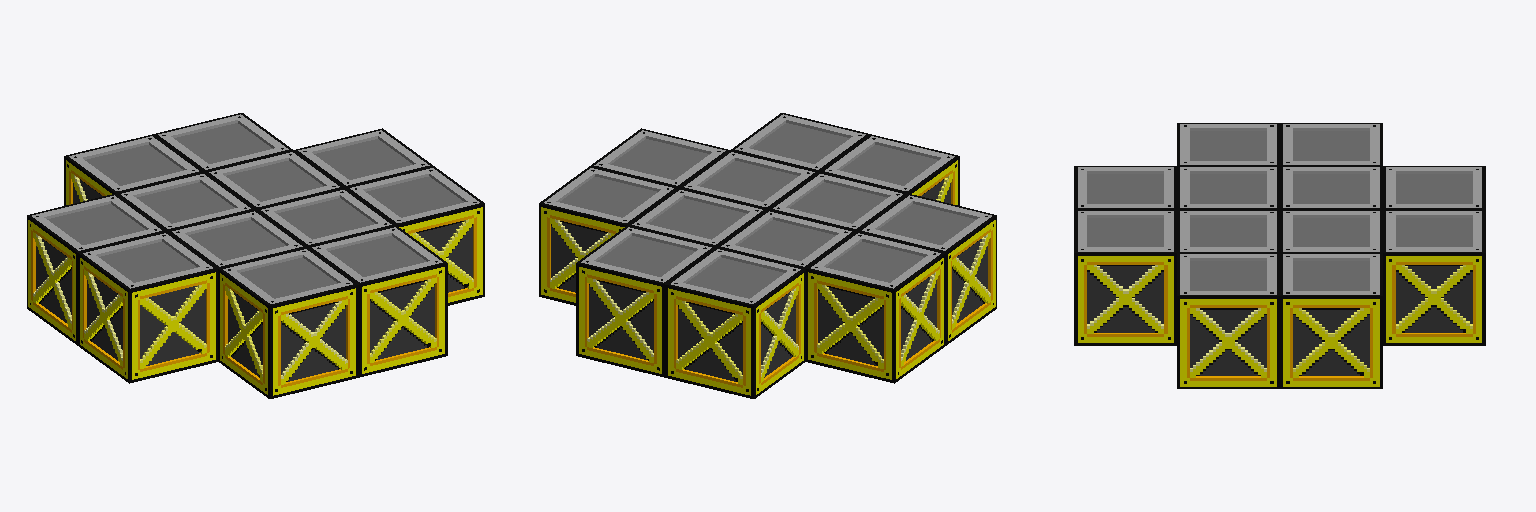
3 renders of one model, left to right at view 1: azimuth 30°, elevation 25°; view 2: azimuth 150°, elevation 25°; view 3: azimuth 270°, elevation 25°, orthographic.
Parts seen in each view (by area): view 1: object 1; view 2: object 1; view 3: object 1.
Part boxes in pixels (left/top/right/bottom): object 1: left=27, top=113, right=484, bottom=398; object 1: left=539, top=113, right=996, bottom=398; object 1: left=1074, top=123, right=1485, bottom=388.
Bounding box in the file's own units: 12.8 × 3.2 × 12.8.
1 materials, 1 textured.